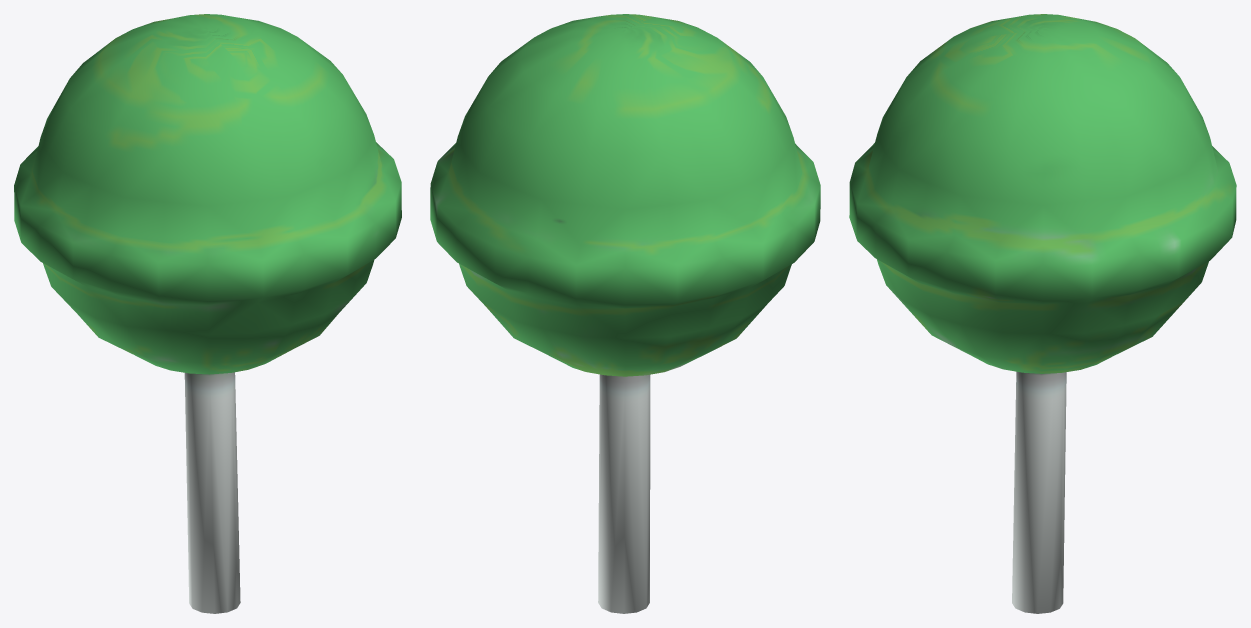
File: barrel-lod0.glb
3 renders of one model, left to right at view 1: azimuth 30°, elevation 25°; view 2: azimuth 150°, elevation 25°; view 3: azimuth 270°, elevation 25°, orthographic.
Parts seen in each view (by area): view 1: Object0012; view 2: Object0012; view 3: Object0012.
Boxes of the visible parts, x1,y1,x2,y2 form: Object0012: (14,14,401,613); Object0012: (430,14,820,613); Object0012: (849,14,1236,613).
Size of the model in its own units: 1.43 by 2.35 by 1.43.
1 material, 1 textured.
